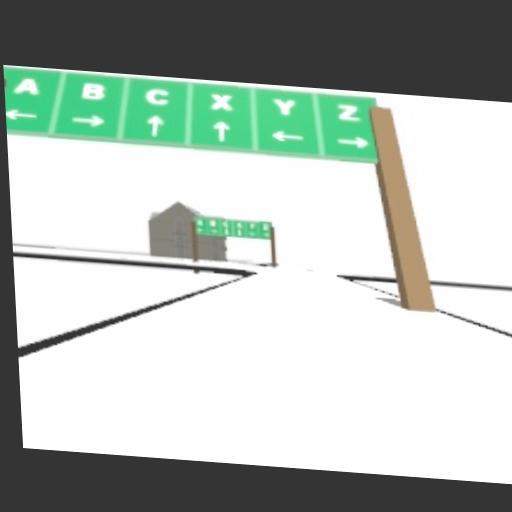A: (14, 73, 38, 96)
B: (81, 80, 108, 101)
C: (145, 85, 169, 105)
Left: (269, 128, 303, 142), (6, 106, 36, 120)
Right: (72, 111, 106, 127), (337, 133, 367, 148)
Straight: (211, 119, 230, 141), (146, 113, 163, 135)
X: (210, 92, 232, 110)
Y: (272, 97, 294, 114)
Z: (337, 101, 362, 122)
